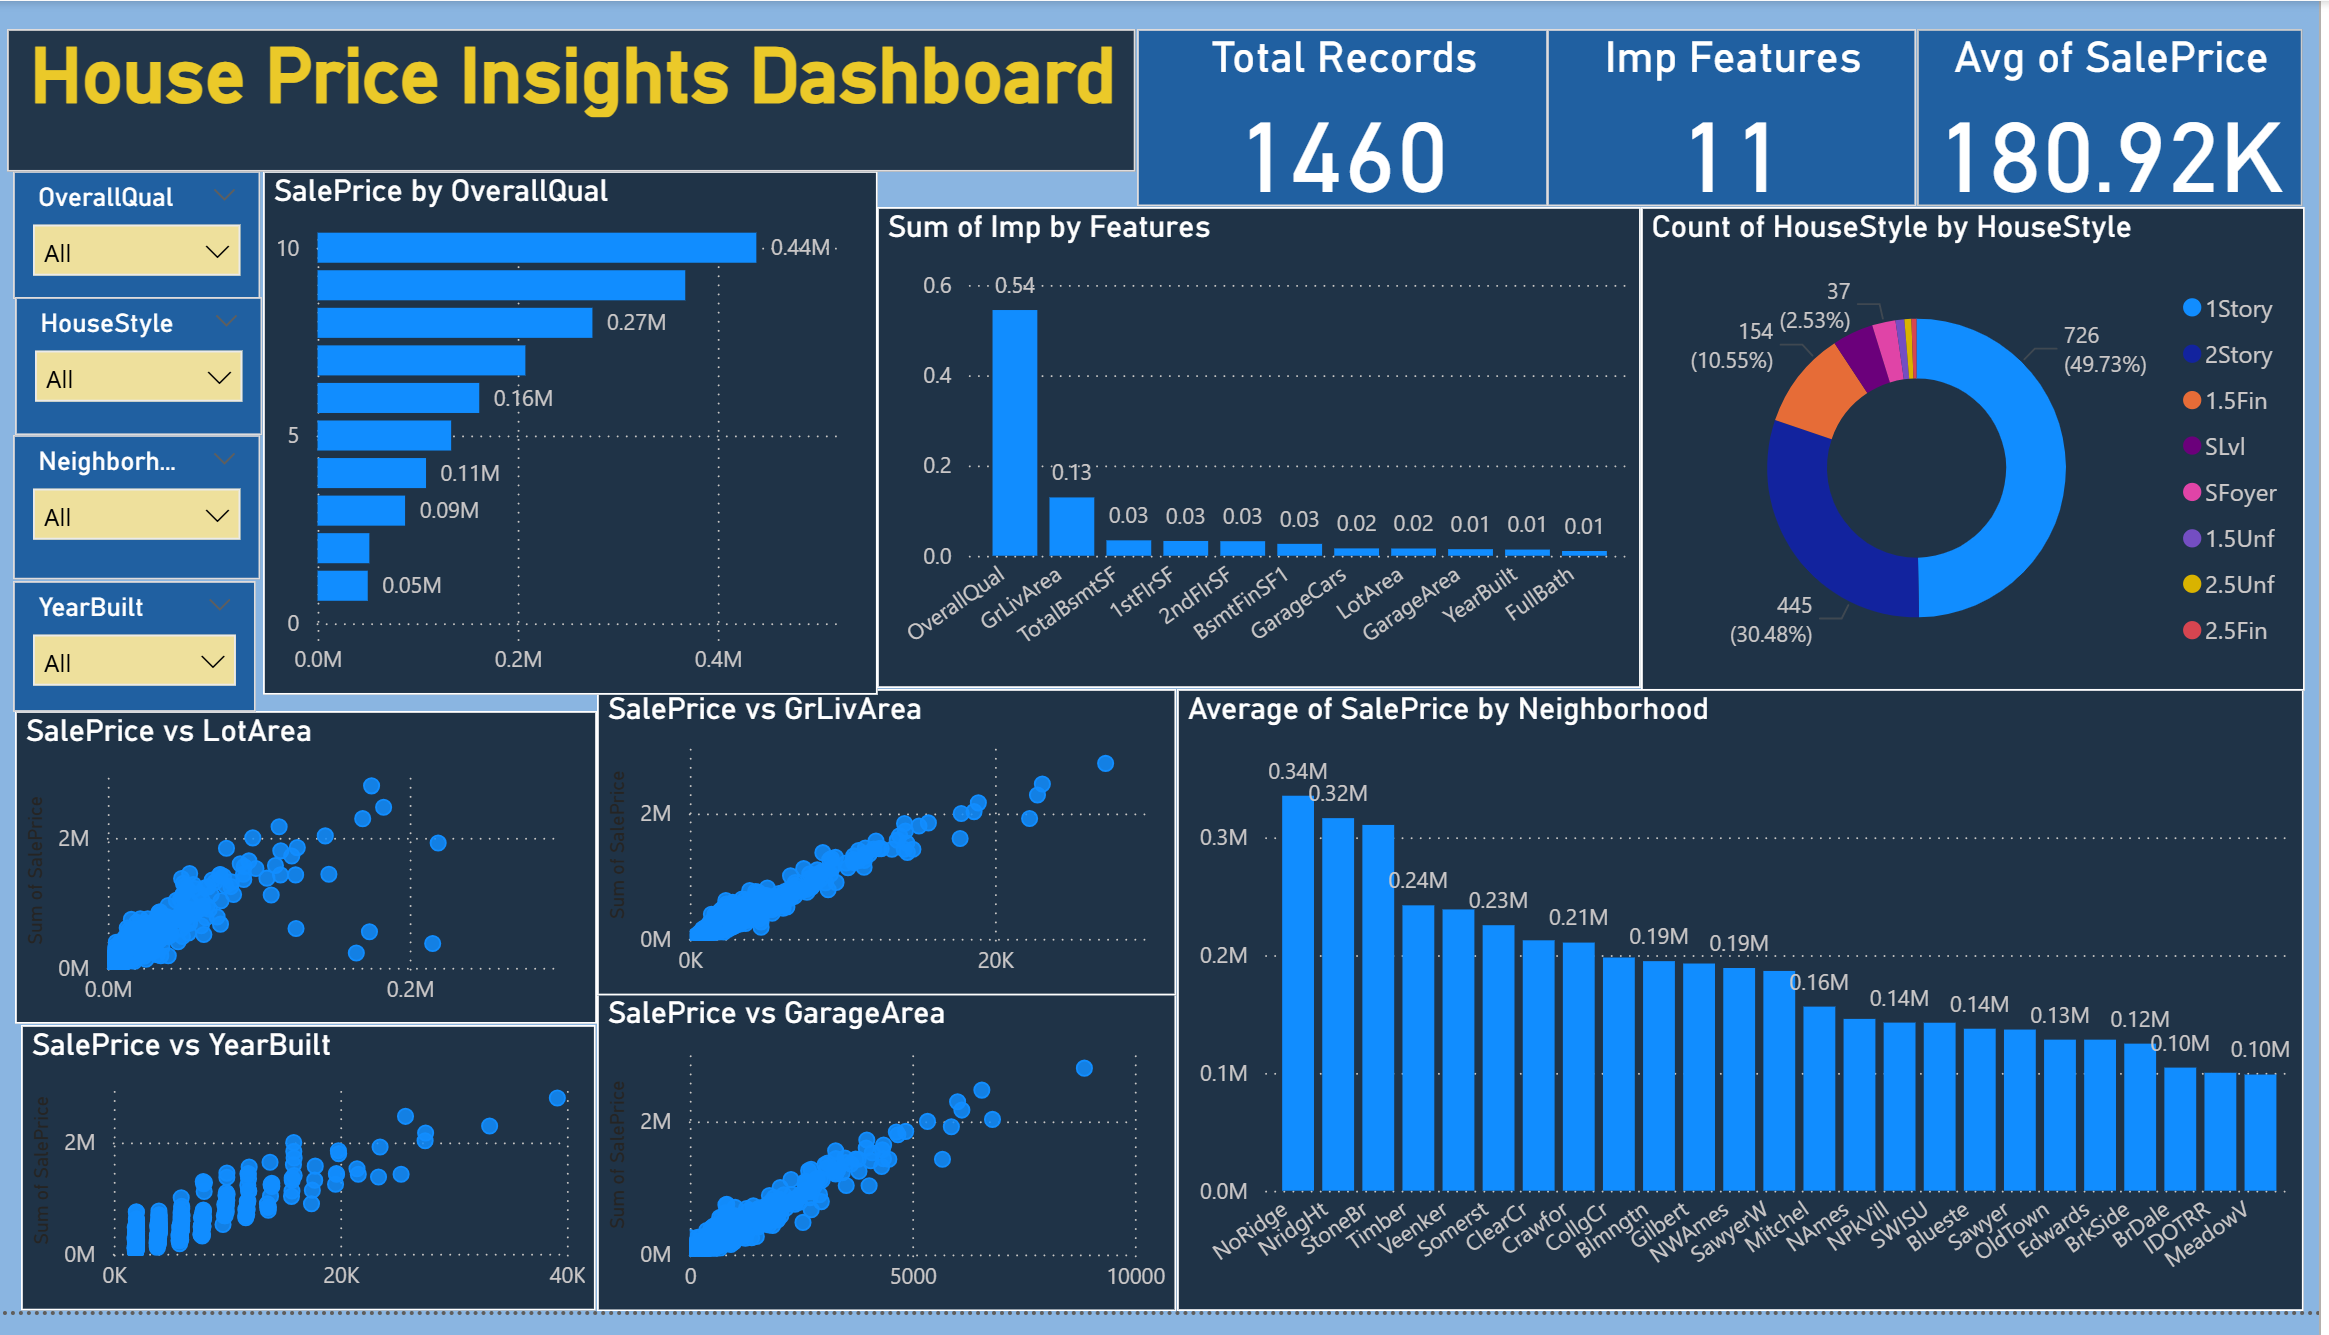

This screenshot's page, from the dashboard's own definition file:
{"tool":"powerbi","page":{"name":"House Price Dashboard","canvas":[1280,720],"ordinal":0},"visuals":[{"type":"card","title":"Total Records","fields":{"Values":["CountNonNull(Sheet1 (4).Id)"]},"box":[629.7,15.4,226.2,97.7],"z":0},{"type":"card","title":"Imp Features","fields":{"Values":["Count(Sheet1 (2).Features)"]},"box":[855.9,15.4,203.1,97.7],"z":1000},{"type":"scatterChart","title":"SalePrice vs GarageArea","fields":{"X":["Sum(Sheet1 (4).GarageArea)"],"Y":["Sum(Sheet1 (4).SalePrice)"],"Category":["Sheet1 (4).SalePrice"]},"box":[332.9,544.9,318.7,174.8],"z":2000},{"type":"scatterChart","title":"SalePrice vs YearBuilt","fields":{"Y":["Sum(Sheet1 (4).SalePrice)"],"Category":["Sheet1 (4).SalePrice"],"X":["Sum(Sheet1 (4).YearBuilt)"]},"box":[16.7,562.9,316.1,156.8],"z":3000},{"type":"scatterChart","title":"SalePrice vs GrLivArea ","fields":{"Y":["Sum(Sheet1 (4).SalePrice)"],"X":["Sum(Sheet1 (4).GrLivArea)"],"Category":["Sheet1 (4).SalePrice"]},"box":[332.9,377.8,318.7,168.4],"z":4000},{"type":"clusteredBarChart","title":"SalePrice by OverallQual","fields":{"Category":["Sheet1 (4).OverallQual"],"Y":["Avg(Sheet1 (4).SalePrice)"]},"box":[149.1,93.8,338,287.9],"z":5000},{"type":"clusteredColumnChart","fields":{"Y":["Avg(Sheet1 (4).SalePrice)"],"Category":["Sheet1 (4).Neighborhood"]},"box":[651.6,377.8,619.4,341.8],"z":6000},{"type":"donutChart","fields":{"Y":["CountNonNull(Sheet1 (4).HouseStyle)"],"Category":["Sheet1 (4).HouseStyle"]},"box":[907.3,113.1,365,266],"z":7000},{"type":"columnChart","fields":{"Category":["Feature Importance.Features"],"Y":["Sum(Feature Importance.Imp)"]},"box":[487.1,113.1,420.2,264.7],"z":8000},{"type":"scatterChart","title":"SalePrice vs LotArea","fields":{"X":["Sum(hp_train.LotArea)"],"Y":["Sum(hp_train.SalePrice)"],"Category":["hp_train.SalePrice"]},"box":[12.9,390.7,320,172.2],"z":9000},{"type":"card","title":"Avg of SalePrice","fields":{"Values":["Avg(hp_train.SalePrice)"]},"box":[1059,15.4,212,97.7],"z":10000},{"type":"slicer","fields":{"Values":["hp_train.YearBuilt"]},"box":[11.6,318.7,133.7,72],"z":11000},{"type":"slicer","fields":{"Values":["hp_train.Neighborhood"]},"box":[11.6,239,136.2,79.7],"z":12000},{"type":"slicer","fields":{"Values":["hp_train.OverallQual"]},"box":[11.6,93.8,136.2,70.7],"z":13000},{"type":"slicer","fields":{"Values":["hp_train.HouseStyle"]},"box":[12.9,163.2,136.2,75.8],"z":14000},{"type":"textbox","title":"House Price Insights Dashboard","box":[9,15.4,620.7,78.4],"z":15000}]}

Visuals, with their boxes in screenshot pixels (x1, y1, x2, y2), scaled from the page's 1280x720 canvas onto the 2329x1335 screenshot:
"Total Records" card: l=1146, t=29, r=1557, b=210
"Imp Features" card: l=1557, t=29, r=1927, b=210
"SalePrice vs GarageArea" scatterChart: l=606, t=1010, r=1186, b=1334
"SalePrice vs YearBuilt" scatterChart: l=30, t=1044, r=606, b=1334
"SalePrice vs GrLivArea " scatterChart: l=606, t=701, r=1186, b=1013
"SalePrice by OverallQual" clusteredBarChart: l=271, t=174, r=886, b=708
clusteredColumnChart - Avg(Sheet1 (4).SalePrice) x Sheet1 (4).Neighborhood: l=1186, t=701, r=2313, b=1334
donutChart - CountNonNull(Sheet1 (4).HouseStyle) x Sheet1 (4).HouseStyle: l=1651, t=210, r=2315, b=703
columnChart - Feature Importance.Features x Sum(Feature Importance.Imp): l=886, t=210, r=1651, b=701
"SalePrice vs LotArea" scatterChart: l=23, t=724, r=606, b=1044
"Avg of SalePrice" card: l=1927, t=29, r=2313, b=210
slicer - hp_train.YearBuilt: l=21, t=591, r=264, b=724
slicer - hp_train.Neighborhood: l=21, t=443, r=269, b=591
slicer - hp_train.OverallQual: l=21, t=174, r=269, b=305
slicer - hp_train.HouseStyle: l=23, t=303, r=271, b=443
"House Price Insights Dashboard" textbox: l=16, t=29, r=1146, b=174
